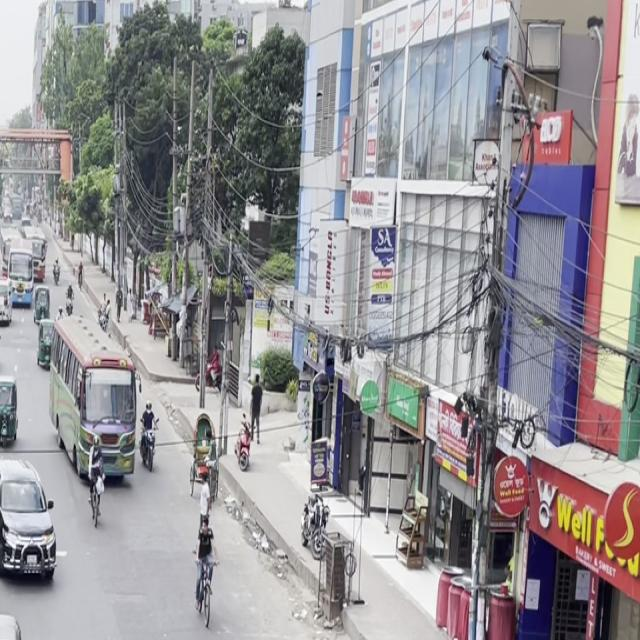bicycle: (185, 518, 223, 638), (84, 447, 107, 532)
car: (0, 458, 63, 593), (298, 639, 462, 640), (0, 319, 1, 375)
motorbike: (137, 398, 160, 477)
rickshaw: (0, 372, 21, 449), (0, 606, 33, 640), (0, 508, 1, 638)
